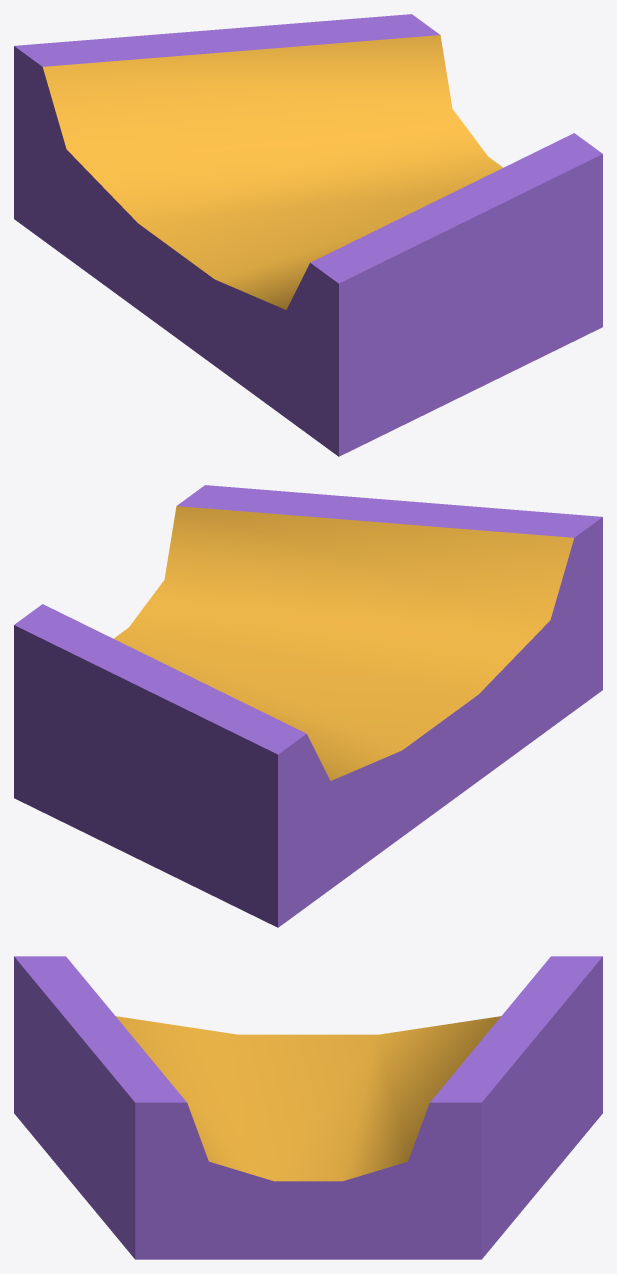
The model's file is funnel-col.glb.
The picture shows the model from 3 angles, top to bottom: view 1: azimuth 30°, elevation 25°; view 2: azimuth 150°, elevation 25°; view 3: azimuth 270°, elevation 25°; orthographic projection. The views are drawn at different scales.
Parts seen in each view (by area): view 1: funnel-col; view 2: funnel-col; view 3: funnel-col.
Part boxes in pixels (x1,y1,x2,y2): funnel-col: [14, 14, 602, 456]; funnel-col: [14, 485, 602, 927]; funnel-col: [14, 956, 602, 1259].
Size of the model in its own units: 1 by 0.5 by 1.7.
Materials: 1 (1 with a texture image).
